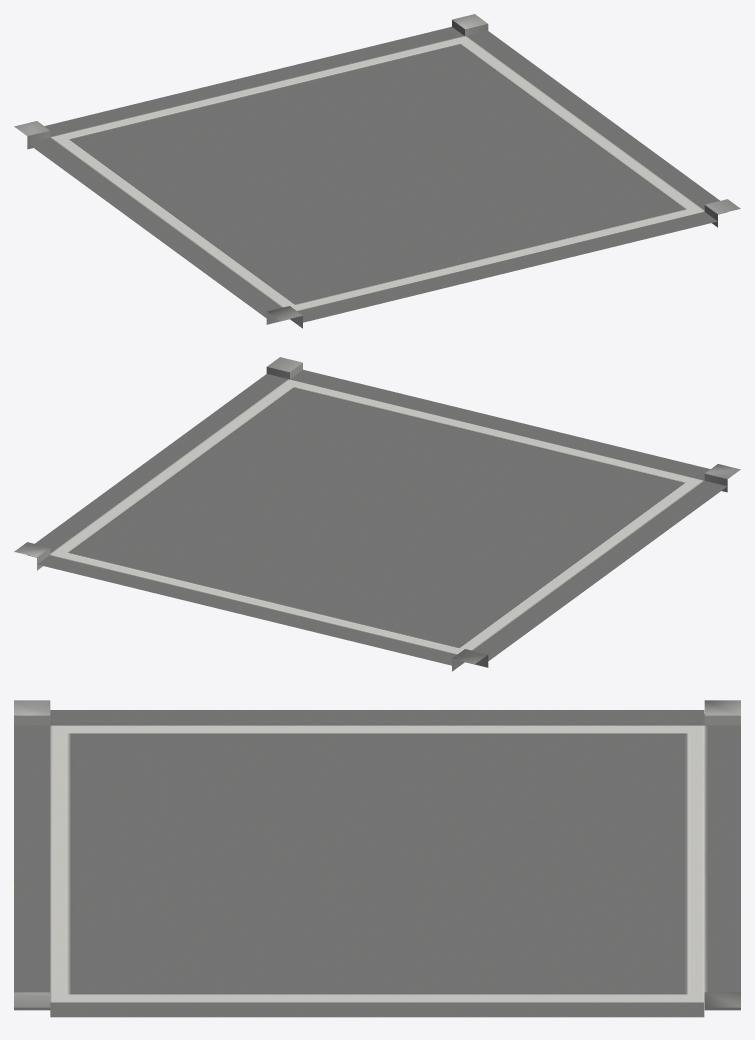
Rendered from Road_H.fbx.
The picture shows the model from 3 angles, top to bottom: view 1: azimuth 30°, elevation 25°; view 2: azimuth 150°, elevation 25°; view 3: azimuth 270°, elevation 25°; orthographic projection. The views are drawn at different scales.
Visible parts, largest first — view 1: Road_H; view 2: Road_H; view 3: Road_H.
Boxes of the visible parts, bbox=[...] form: Road_H: bbox=[14, 14, 740, 328]; Road_H: bbox=[14, 357, 740, 671]; Road_H: bbox=[14, 700, 740, 1017].
Size of the model in its own units: 2000 by 55.12 by 2000.
